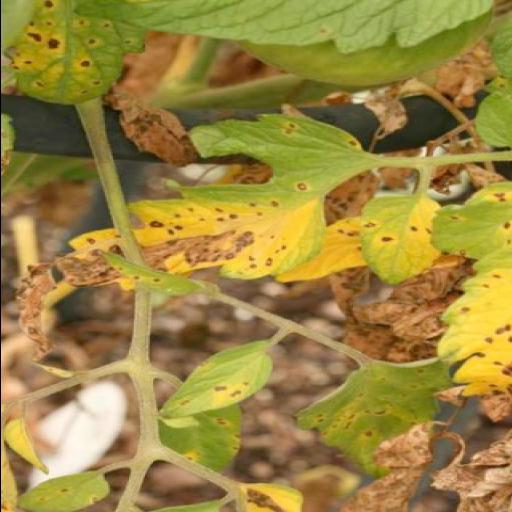disease_tomato: (12, 112, 382, 360), (424, 174, 512, 426), (294, 354, 458, 480), (0, 0, 148, 105), (348, 188, 454, 286), (153, 340, 275, 422)
